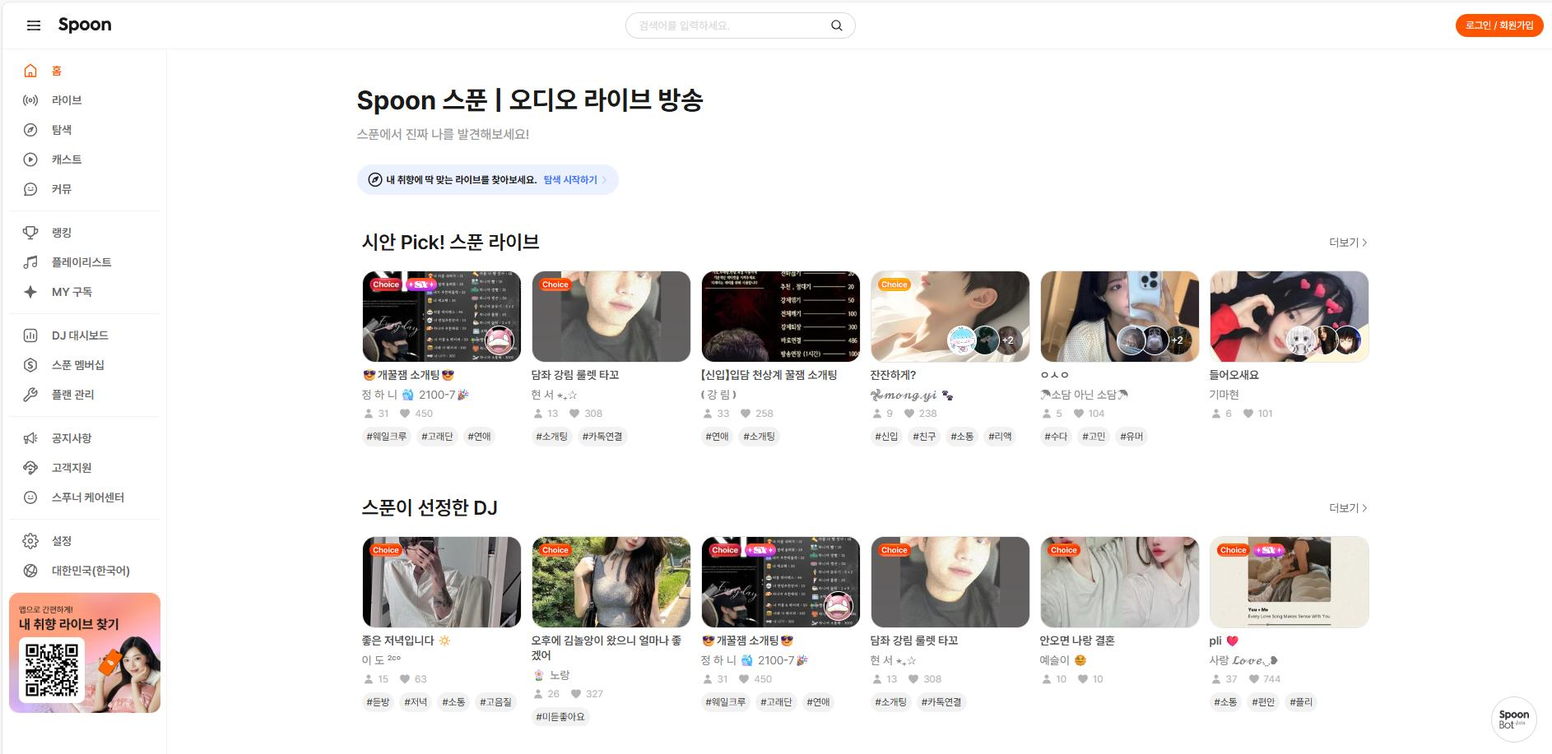button: (369, 161, 617, 191), (22, 5, 129, 34), (1459, 8, 1546, 43), (20, 249, 144, 270), (21, 486, 151, 506), (12, 54, 80, 88), (1477, 698, 1541, 734), (29, 563, 156, 581), (14, 326, 121, 347), (20, 95, 95, 124), (24, 354, 111, 376), (17, 145, 92, 169), (21, 381, 97, 404), (16, 525, 83, 551), (17, 215, 83, 241), (19, 428, 104, 447), (24, 456, 104, 476), (24, 281, 95, 303), (20, 122, 82, 142), (16, 179, 81, 198)
input_field: (627, 15, 851, 36)
qr_code: (20, 639, 83, 702)
